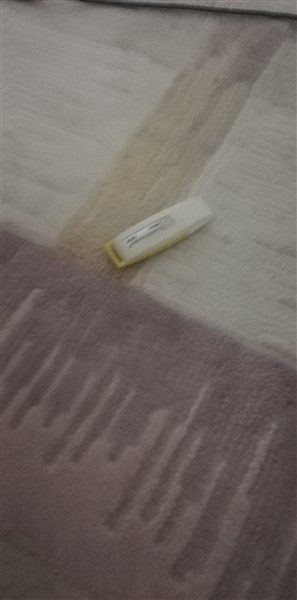flash disk: (101, 194, 223, 270)
